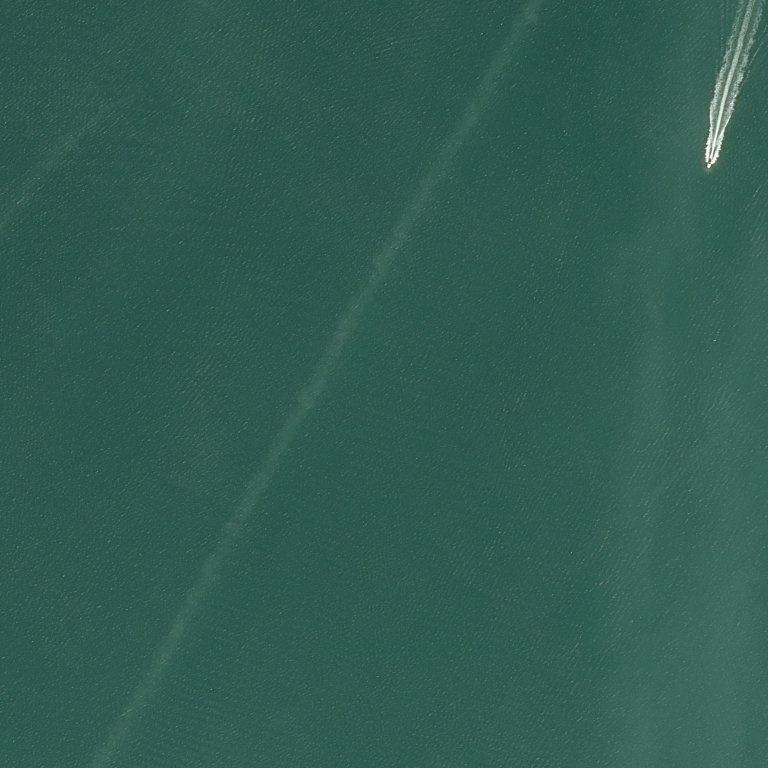ship: (706, 151, 713, 171), (695, 6, 700, 9), (707, 165, 709, 170), (705, 158, 709, 160)
